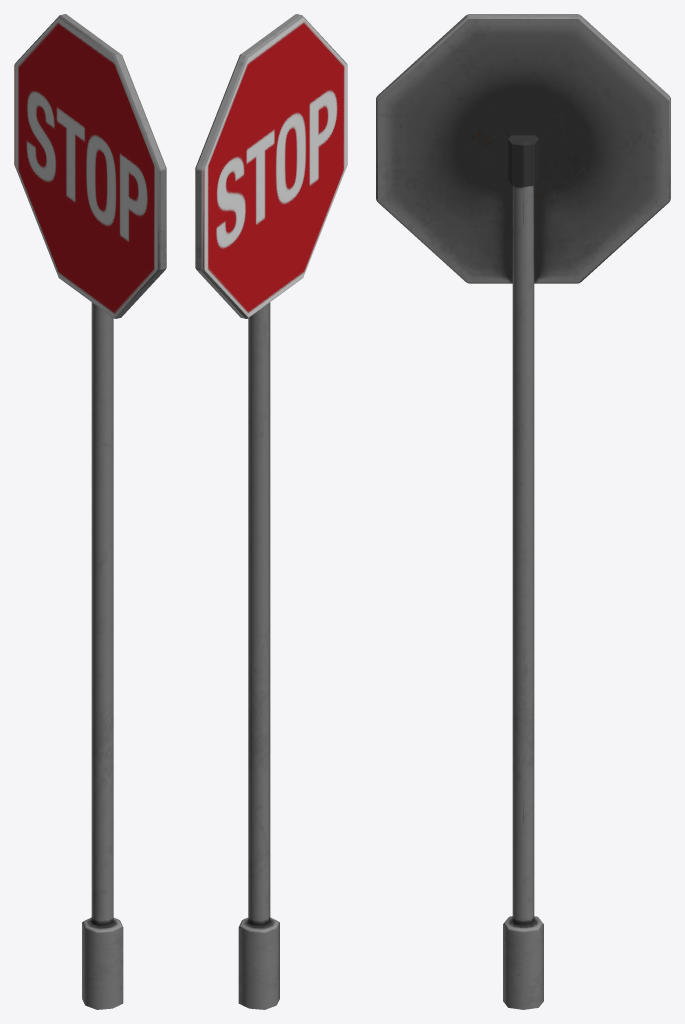
The model's file is SM_Sign1.fbx.
3 renders of one model, left to right at view 1: azimuth 30°, elevation 25°; view 2: azimuth 150°, elevation 25°; view 3: azimuth 270°, elevation 25°, orthographic.
Visible parts, largest first — view 1: SM_Sign1_LOD0; view 2: SM_Sign1_LOD0; view 3: SM_Sign1_LOD0.
Part boxes in pixels (left/top/right/bottom): SM_Sign1_LOD0: left=14, top=14, right=166, bottom=1009; SM_Sign1_LOD0: left=195, top=14, right=347, bottom=1009; SM_Sign1_LOD0: left=376, top=14, right=670, bottom=1009.
Bounding box in the file's own units: 11.11 × 80.49 × 295.
Materials: 1 (1 with a texture image).
